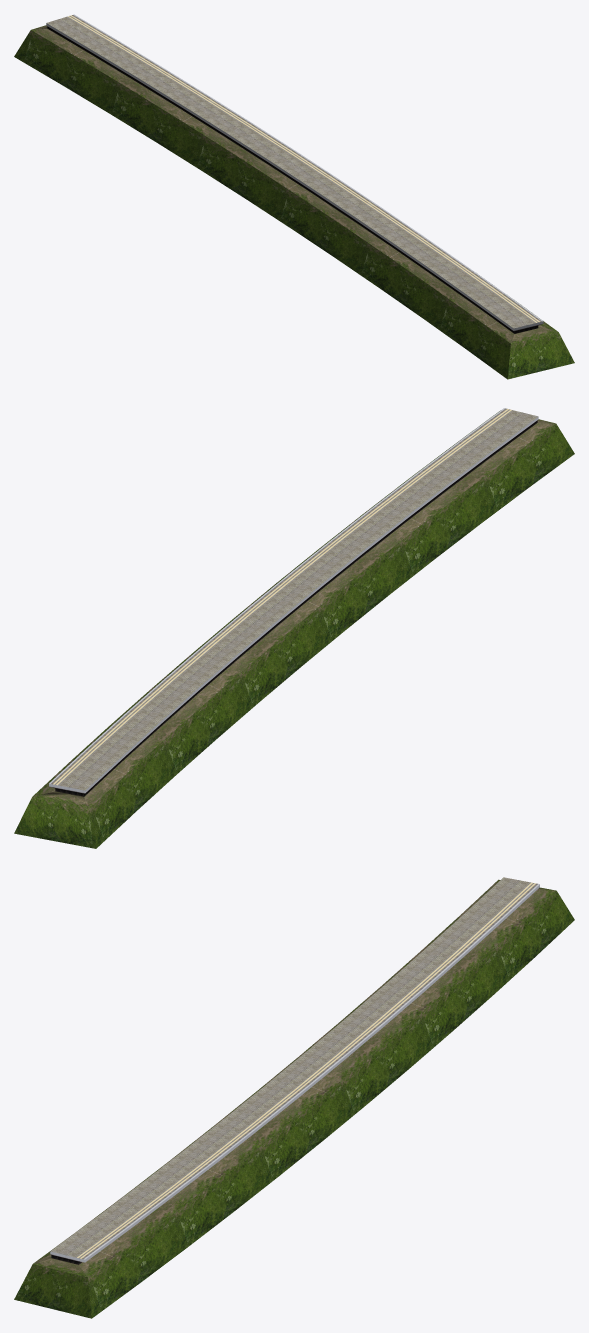
The model's file is platform_rus_1l.gltf.
The picture shows the model from 3 angles, top to bottom: view 1: azimuth 30°, elevation 25°; view 2: azimuth 150°, elevation 25°; view 3: azimuth 330°, elevation 25°; orthographic projection. The views are drawn at different scales.
Size of the model in its own units: 14.31 by 4.75 by 106.
1 material, 1 textured.
